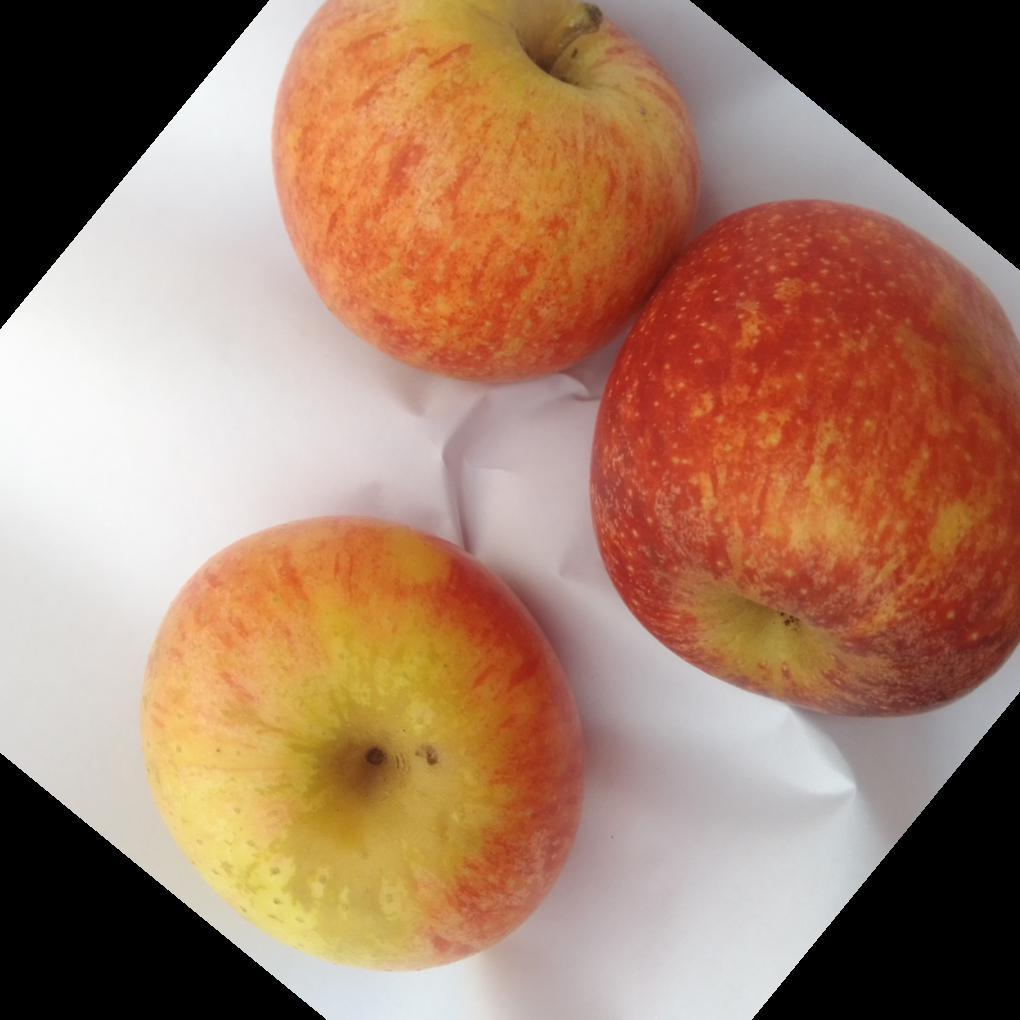FreshGuava: (270, 0, 1020, 720), (137, 519, 587, 976)
